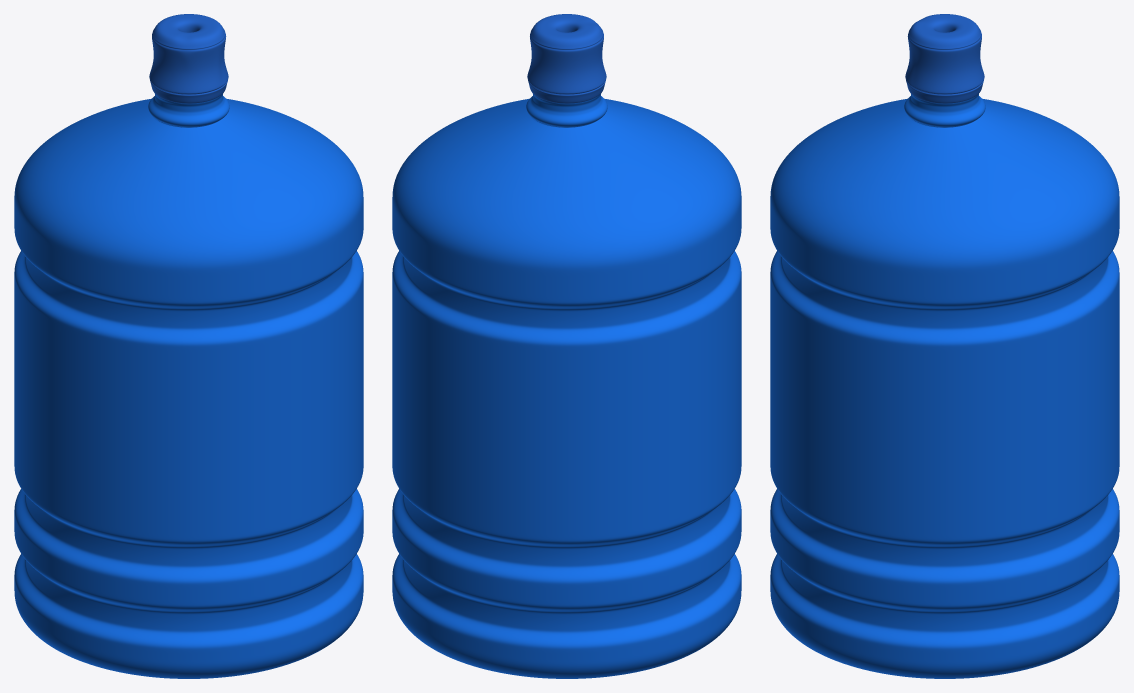
Rendered from bidon-20l-transformed.glb.
3 views of the same model, side by side, from view 1: azimuth 30°, elevation 25°; view 2: azimuth 150°, elevation 25°; view 3: azimuth 270°, elevation 25° (orthographic).
Visible parts, largest first — view 1: Bidon_20L_Principal, Circle.003_0; view 2: Bidon_20L_Principal, Circle.003_0; view 3: Bidon_20L_Principal, Circle.003_0.
Part boxes in pixels (box(x1,y1,x2,y2)): Bidon_20L_Principal: box(14, 94, 363, 678); Circle.003_0: box(149, 14, 228, 103); Bidon_20L_Principal: box(392, 94, 741, 678); Circle.003_0: box(527, 14, 606, 103); Bidon_20L_Principal: box(770, 94, 1119, 678); Circle.003_0: box(905, 14, 984, 103).
Bounding box in the file's own units: 7.05 × 13.13 × 7.05.
